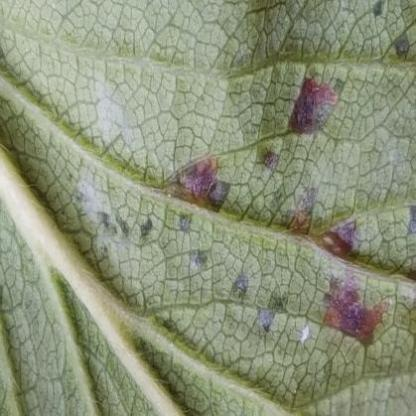Strawberry_Angular_LeafSpot: (66, 0, 415, 349)
